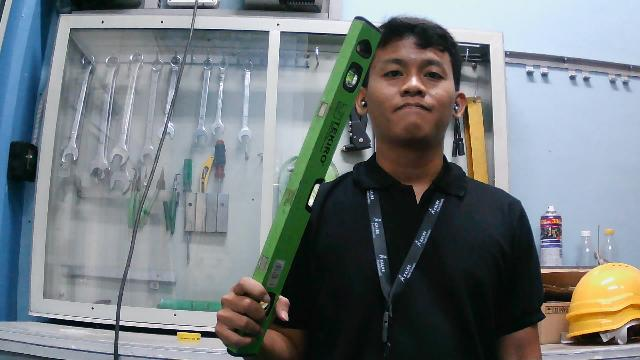water_pass: (220, 14, 386, 357)
